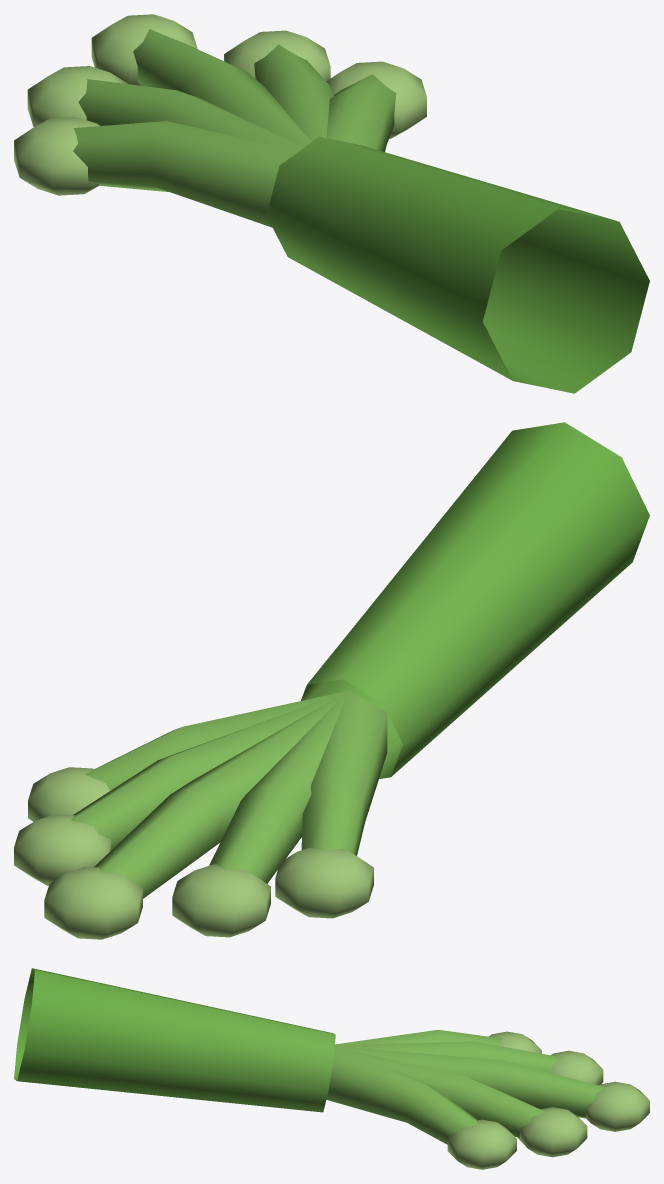
File: Frog_Limb2F.fbx
3 views of the same model, one above another, from view 1: azimuth 30°, elevation 25°; view 2: azimuth 150°, elevation 25°; view 3: azimuth 270°, elevation 25° (orthographic). The views are drawn at different scales.
Parts seen in each view (by area): view 1: Frog_Limb2F; view 2: Frog_Limb2F; view 3: Frog_Limb2F.
Part boxes in pixels (left/top/right/bottom): Frog_Limb2F: left=14, top=14, right=649, bottom=393; Frog_Limb2F: left=14, top=422, right=649, bottom=939; Frog_Limb2F: left=14, top=968, right=649, bottom=1169.
Bounding box in the file's own units: 0.1828 × 0.1028 × 0.4184.
